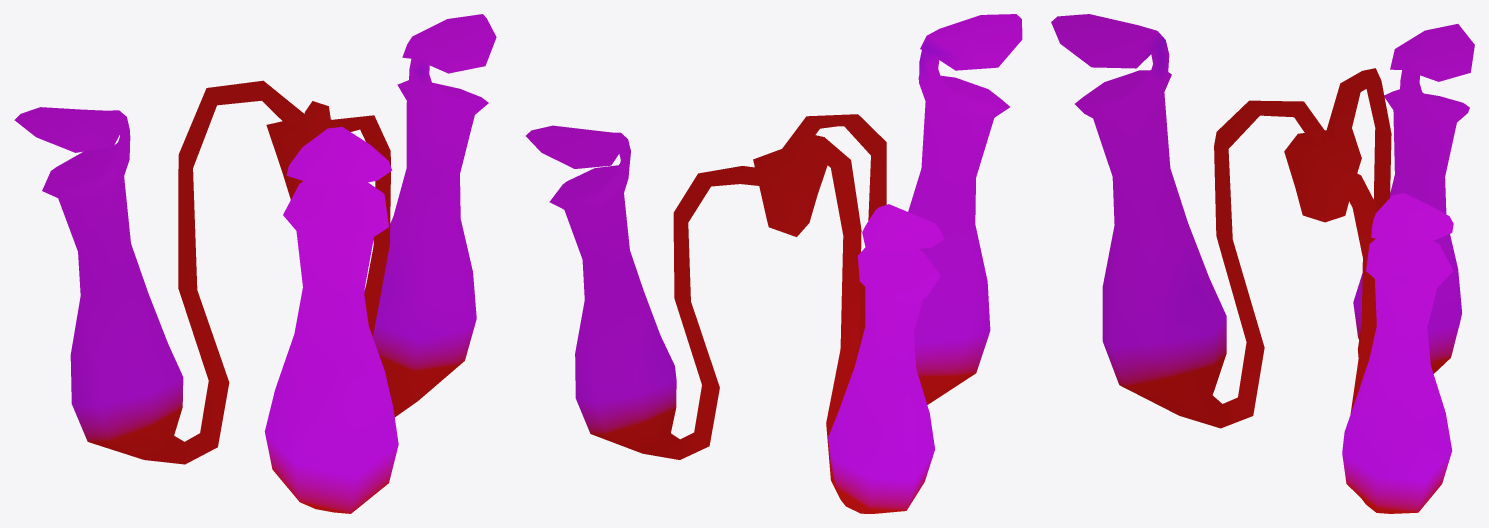
File: SM_Env_Flower_Pitcher_02.glb
3 views of the same model, side by side, from view 1: azimuth 30°, elevation 25°; view 2: azimuth 150°, elevation 25°; view 3: azimuth 270°, elevation 25° (orthographic). The views are drawn at different scales.
Parts seen in each view (by area): view 1: SM_Env_Flower_Pitcher_02_LOD0; view 2: SM_Env_Flower_Pitcher_02_LOD0; view 3: SM_Env_Flower_Pitcher_02_LOD0.
Boxes of the visible parts, bbox=[...] form: SM_Env_Flower_Pitcher_02_LOD0: bbox=[14, 14, 496, 513]; SM_Env_Flower_Pitcher_02_LOD0: bbox=[526, 14, 1022, 513]; SM_Env_Flower_Pitcher_02_LOD0: bbox=[1051, 14, 1474, 513].
Size of what is drawn, in the model's own units: 1.79 by 1.55 by 1.51.
